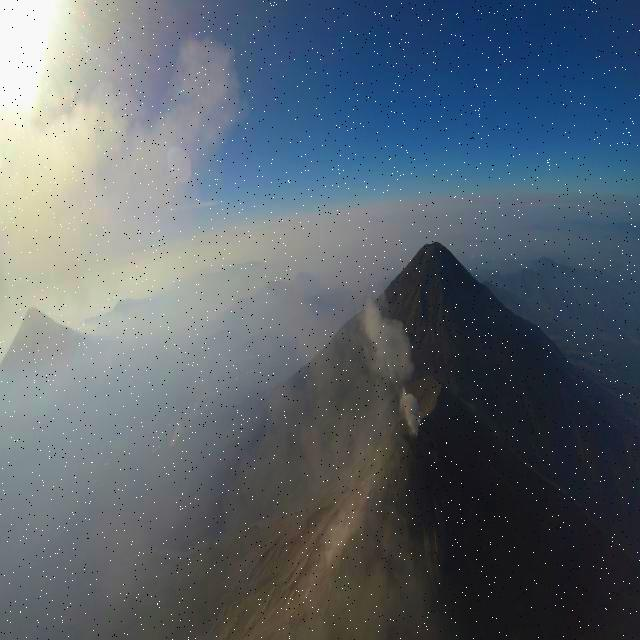Plume: (0, 35, 244, 252), (358, 296, 412, 384), (398, 386, 422, 437)
Summit: (369, 414, 439, 474)
